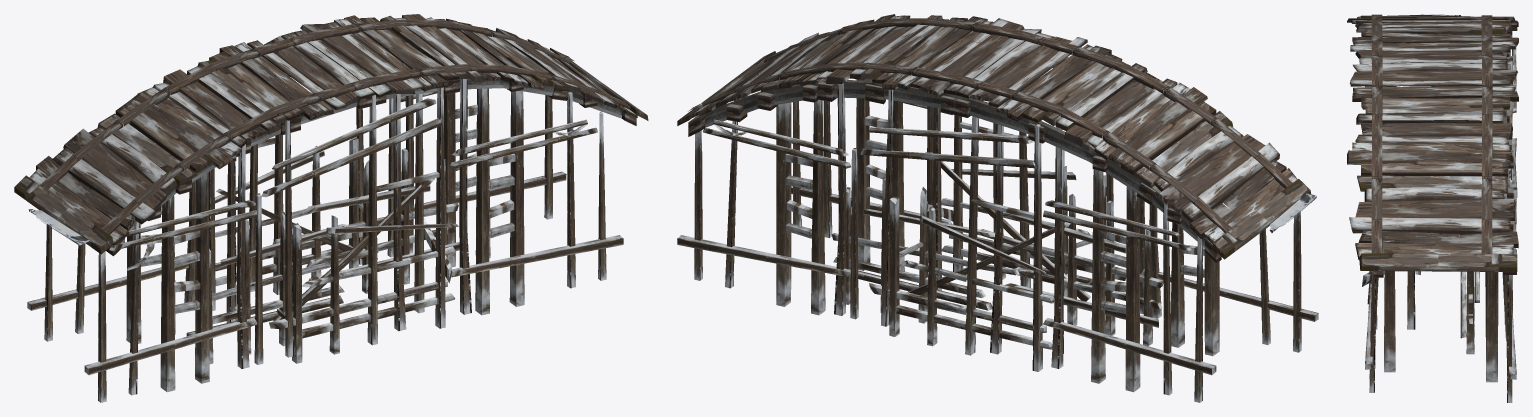
Rendered from 5014_Item_qiao_2.FBX.
3 views of the same model, side by side, from view 1: azimuth 30°, elevation 25°; view 2: azimuth 150°, elevation 25°; view 3: azimuth 270°, elevation 25° (orthographic). The views are drawn at different scales.
Visible parts, largest first — view 1: 5014_Item_qiao_2; view 2: 5014_Item_qiao_2; view 3: 5014_Item_qiao_2.
Part boxes in pixels (<box>): 5014_Item_qiao_2: <box>14,14,648,402</box>; 5014_Item_qiao_2: <box>677,14,1318,402</box>; 5014_Item_qiao_2: <box>1347,14,1518,402</box>.
Bounding box in the file's own units: 2405 × 1079 × 700.
